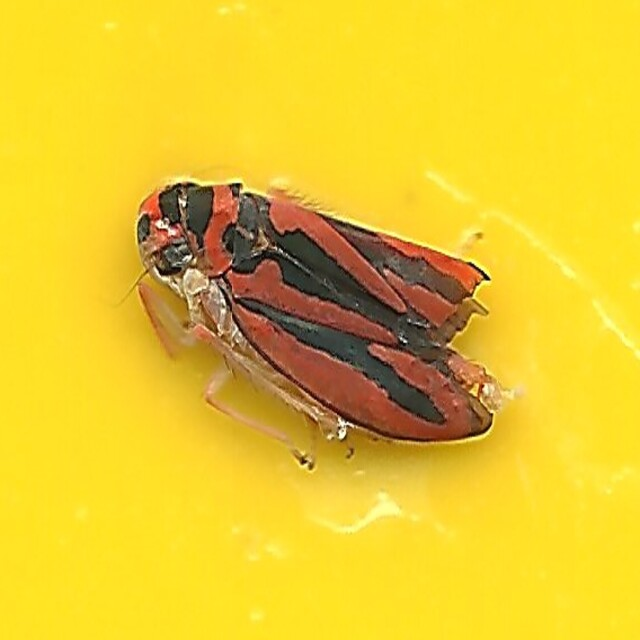Hemiptera: (113, 168, 527, 472)
